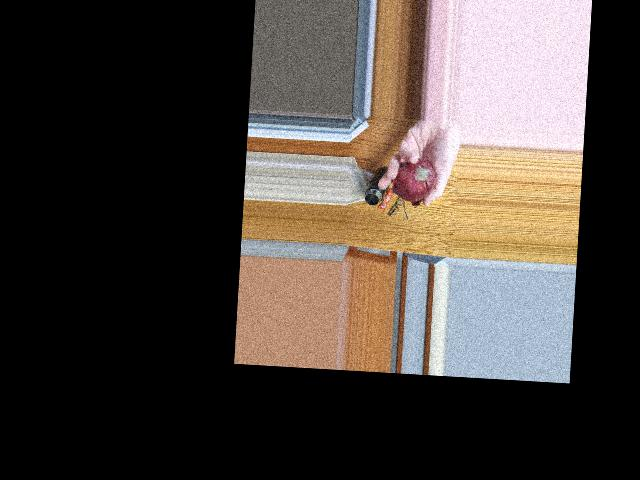onion: (399, 158, 436, 200)
